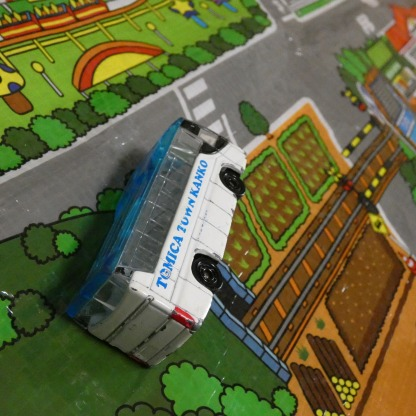car: (64, 117, 257, 368)
